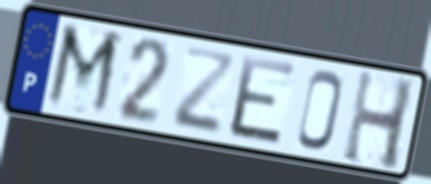0: (295, 68, 346, 152)
2: (117, 35, 172, 128)
E: (227, 51, 299, 149)
H: (339, 66, 419, 174)
M: (41, 19, 126, 122)
Z: (169, 43, 239, 138)
